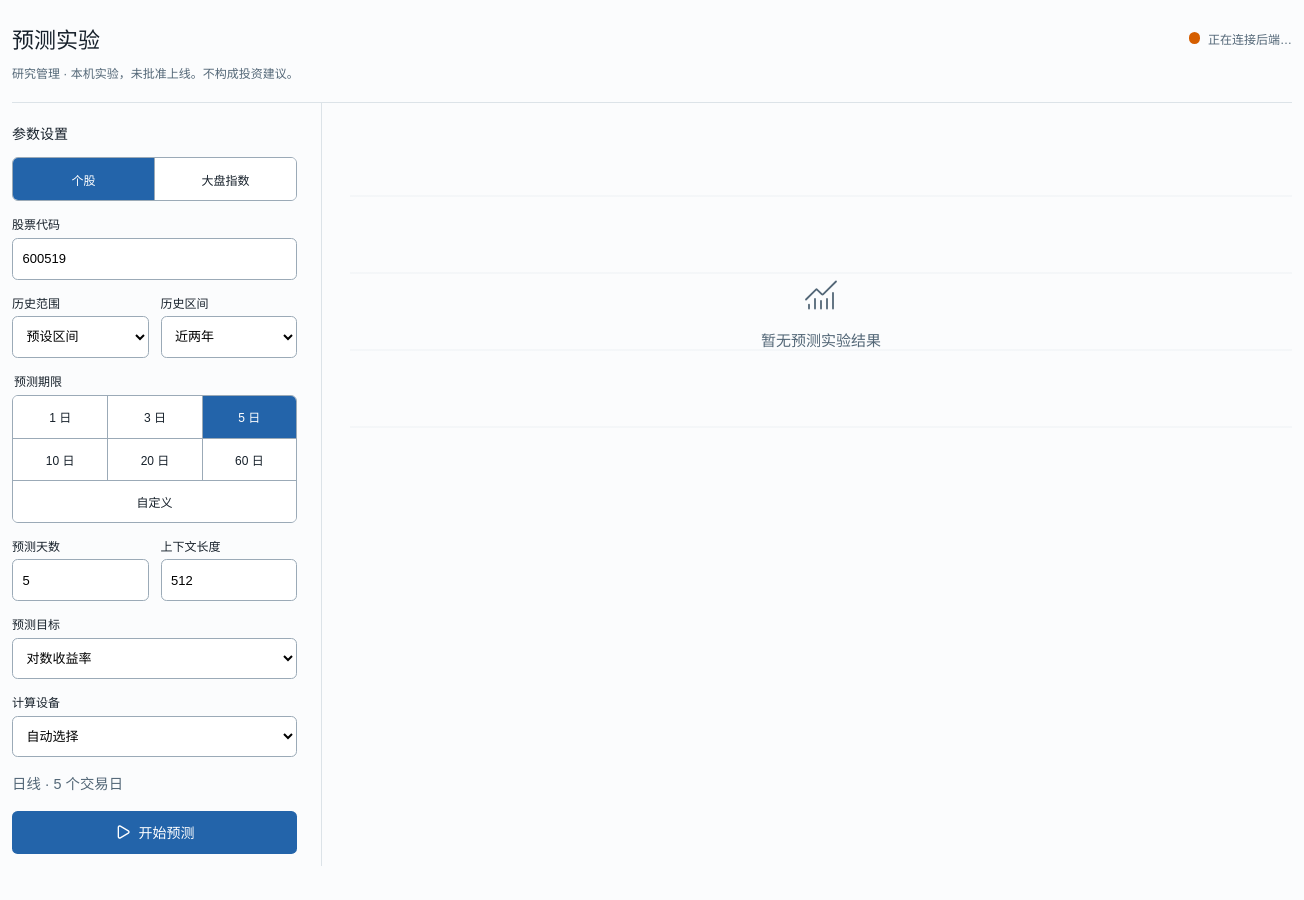
Test: extracted legacy capabilities on independent pages › exposes custom horizons as an explicit radio choice
Replace the text in the number field labelled "预测天数" with "7" at point(80, 580), box left=12, top=559, right=148, bottom=601
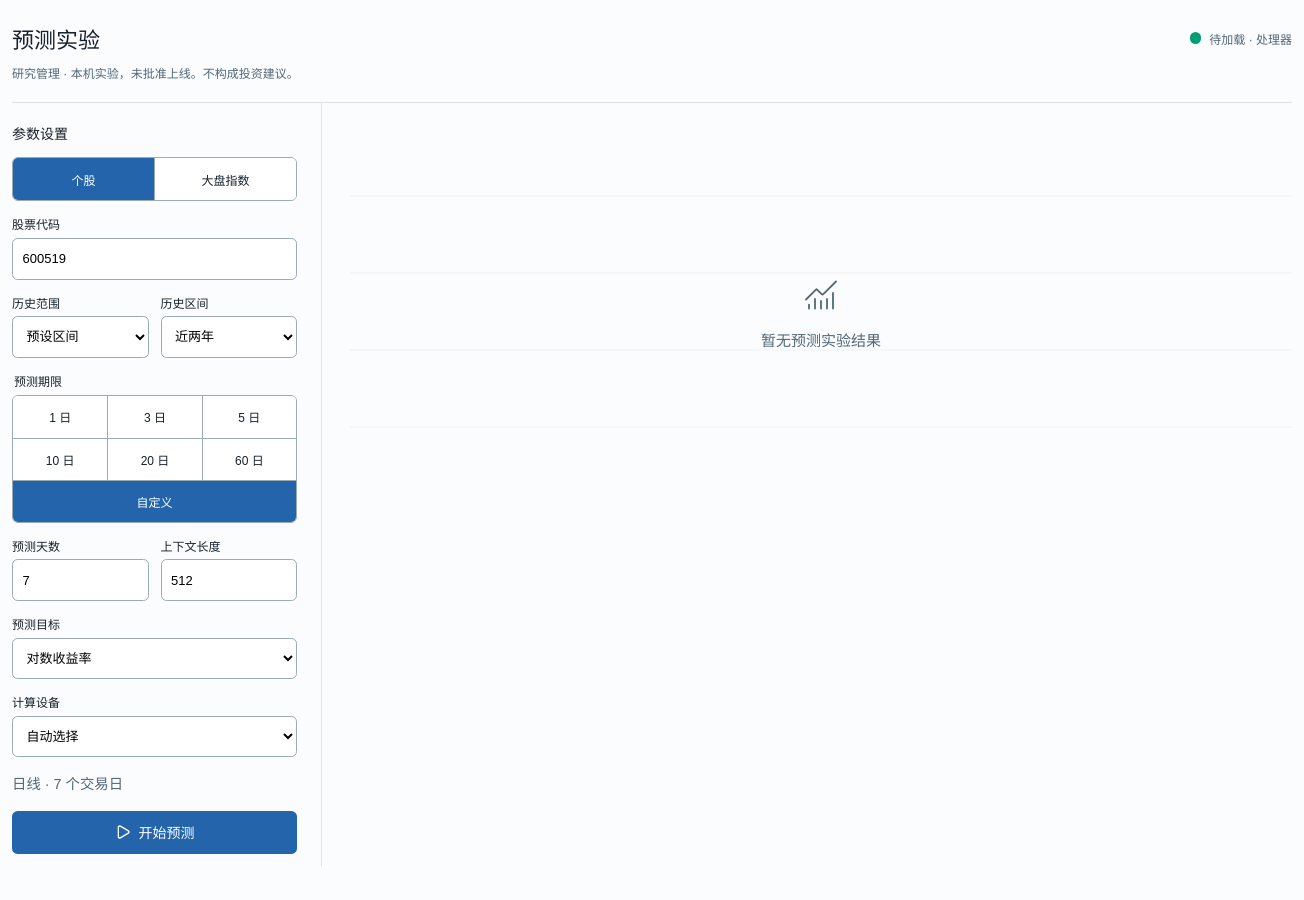
Check: the element named "预测期限" is shown, box left=12, top=395, right=297, bottom=523
Check: the radio button labelled "自定义" is checked, box left=13, top=480, right=296, bottom=522
Click the radio button labelled "5 日" at point(249, 417), box left=202, top=396, right=296, bottom=438
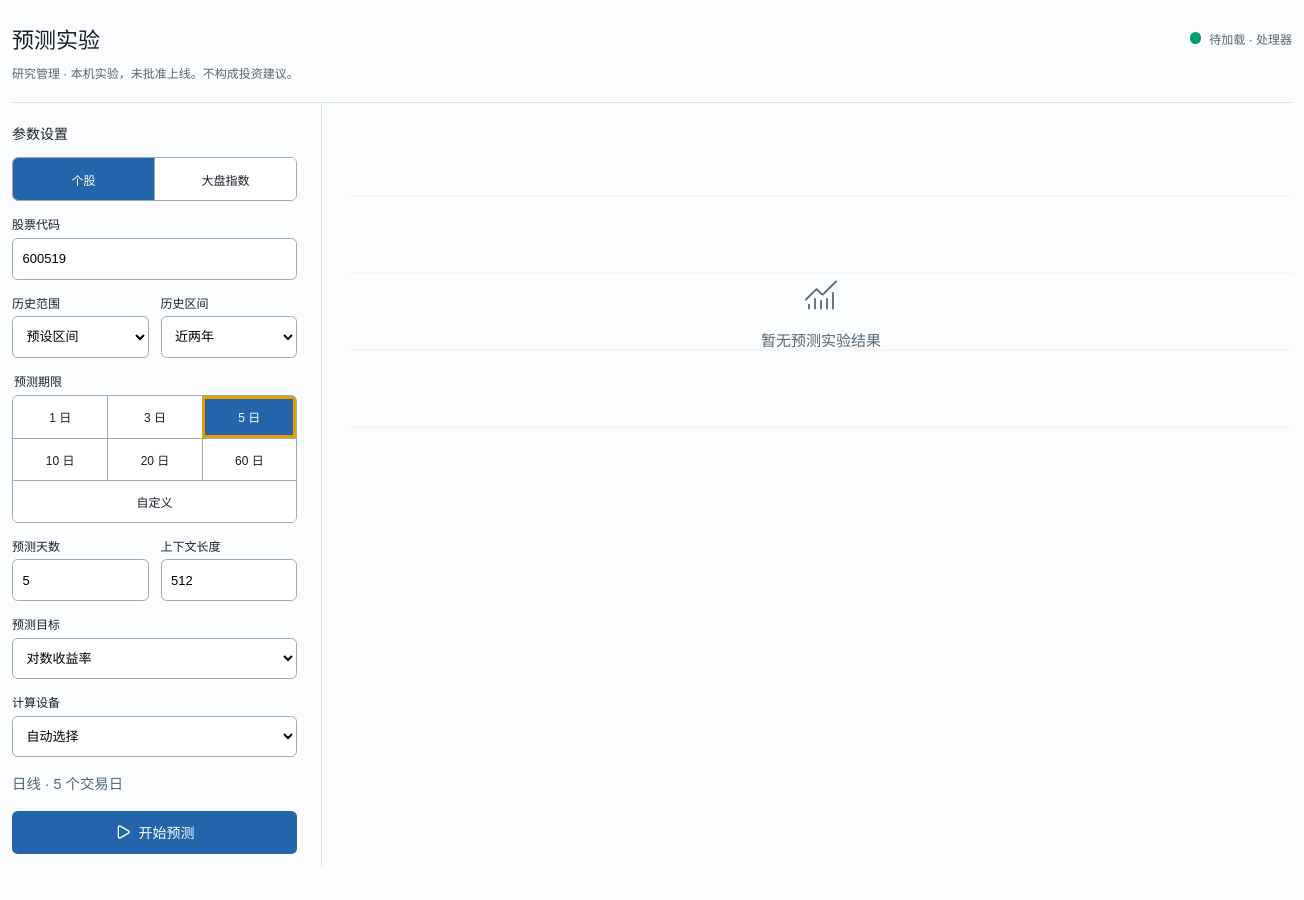
Check: the number field labelled "预测天数" holds "5", box left=12, top=559, right=148, bottom=601
